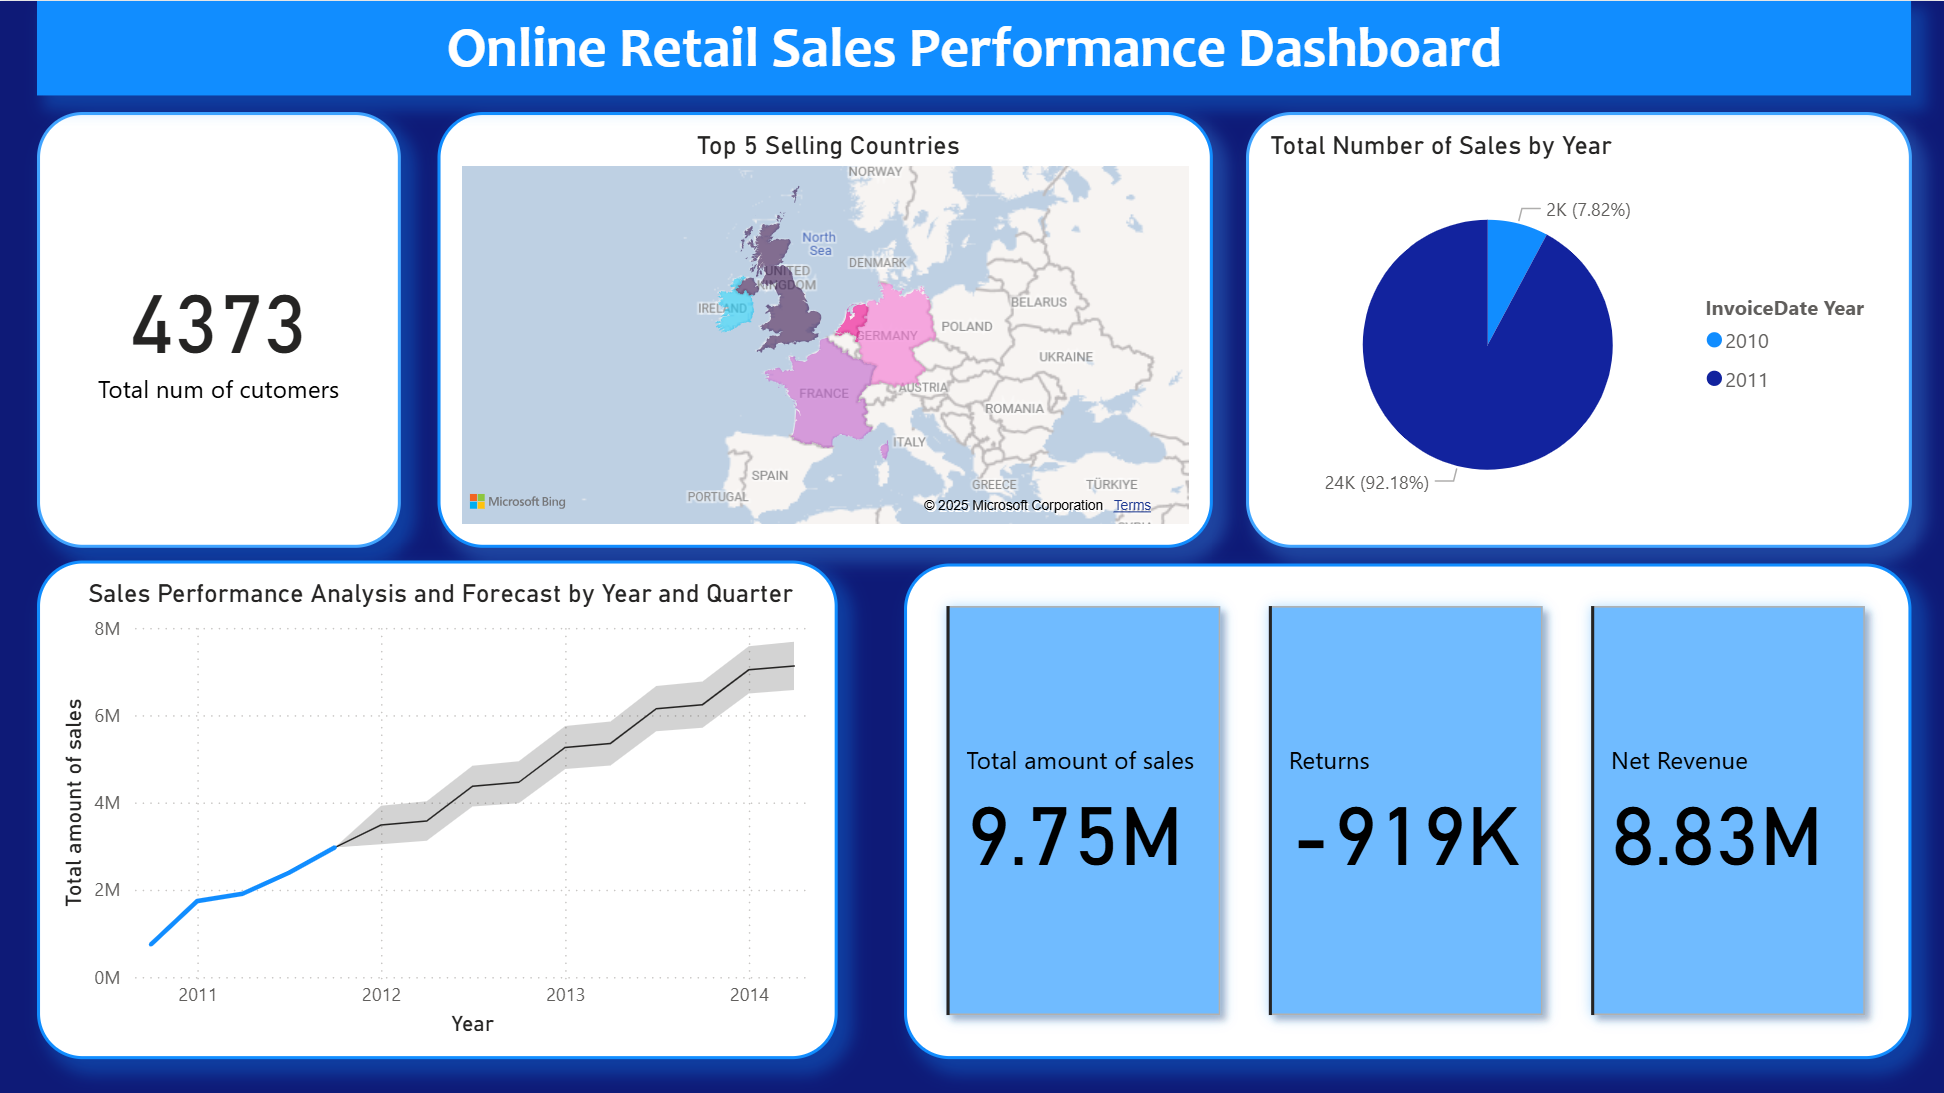

Layout of this report page (visuals, bound fields, positions):
{"tool":"powerbi","page":{"name":"Dashboard","canvas":[1280,720],"ordinal":0},"visuals":[{"type":"card","fields":{"Values":["Online Retail.Total num of cutomers"]},"box":[25.6,73.4,239,286.8],"z":0},{"type":"filledMap","title":"Top 5 Selling Countries","fields":{"Category":["Online Retail.Country"],"Series":["Online Retail.Country"]},"box":[289.1,73.4,510.3,286.8],"z":1000},{"type":"pieChart","title":"Total Number of Sales by Year","fields":{"Y":["Online Retail.TotalSales"],"Category":["Online Retail.InvoiceDate.Variation.Date Hierarchy.Year","Online Retail.InvoiceDate.Variation.Date Hierarchy.Quarter","Online Retail.InvoiceDate.Variation.Date Hierarchy.Month","Online Retail.InvoiceDate.Variation.Date Hierarchy.Day"]},"box":[820.5,73.4,438,286.8],"z":2000},{"type":"lineChart","title":"Sales Performance Analysis and Forecast by Year and Quarter","fields":{"Y":["Online Retail.Total amount of sales"],"Category":["Online Retail.InvoiceDate.Variation.Date Hierarchy.Year","Online Retail.InvoiceDate.Variation.Date Hierarchy.Quarter"]},"box":[25.6,368,527,328],"z":3000},{"type":"cardVisual","fields":{"Data":["Online Retail.Total amount of sales","Online Retail.TotalAmountOfReturns","Online Retail.Net Revenue"]},"box":[595.9,370.2,662.6,325.7],"z":3001},{"type":"textbox","box":[25.6,0,1232.9,62.3],"z":3003}]}

Visuals, with their boxes in screenshot pixels (x1, y1, x2, y2), scaled from the page's 1280x720 canvas onto the 1944x1093 screenshot:
card - Online Retail.Total num of cutomers: [39, 111, 402, 547]
"Top 5 Selling Countries" filledMap: [439, 111, 1214, 547]
"Total Number of Sales by Year" pieChart: [1246, 111, 1911, 547]
"Sales Performance Analysis and Forecast by Year and Quarter" lineChart: [39, 559, 839, 1057]
cardVisual - Online Retail.Total amount of sales x Online Retail.TotalAmountOfReturns: [905, 562, 1911, 1056]
textbox: [39, 0, 1911, 95]
